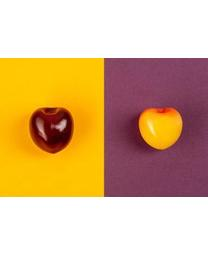cherry: (30, 107, 74, 155), (137, 107, 183, 151)
